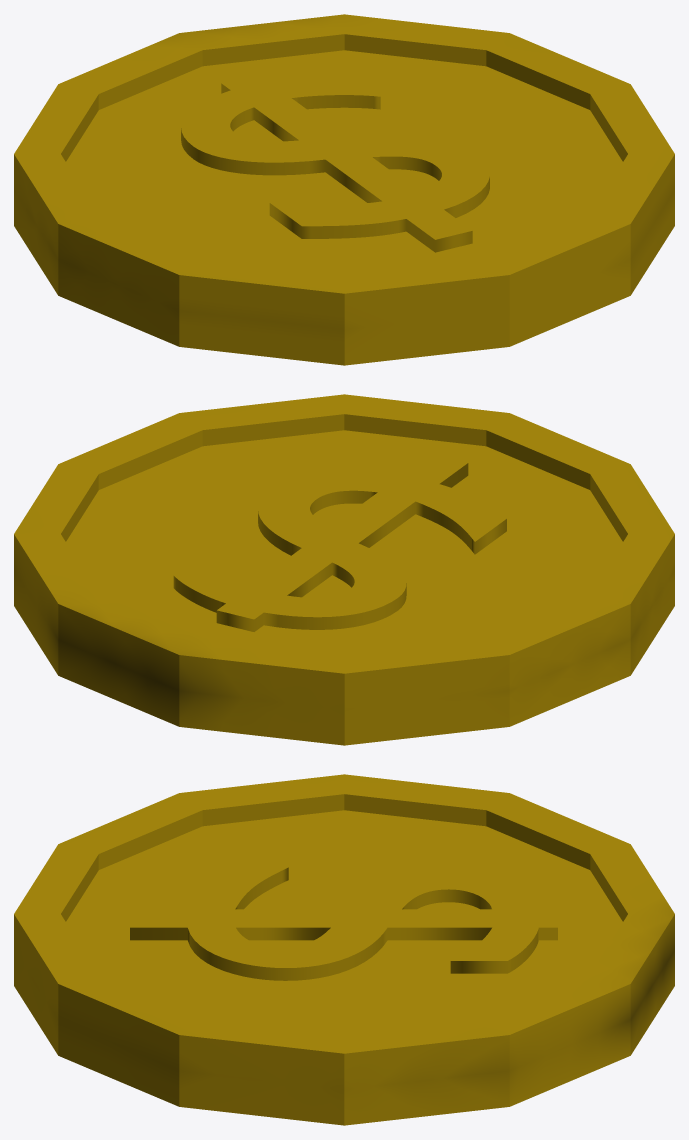
Rendered from Koin.fbx.
The picture shows the model from 3 angles, top to bottom: view 1: azimuth 30°, elevation 25°; view 2: azimuth 150°, elevation 25°; view 3: azimuth 270°, elevation 25°; orthographic projection.
Visible parts, largest first — view 1: Cylinder.001; view 2: Cylinder.001; view 3: Cylinder.001.
Part boxes in pixels (box(x1,y1,x2,y2)): Cylinder.001: box(14, 14, 674, 365); Cylinder.001: box(14, 394, 674, 745); Cylinder.001: box(14, 774, 674, 1125).
Bounding box in the file's own units: 100 × 12 × 100.
